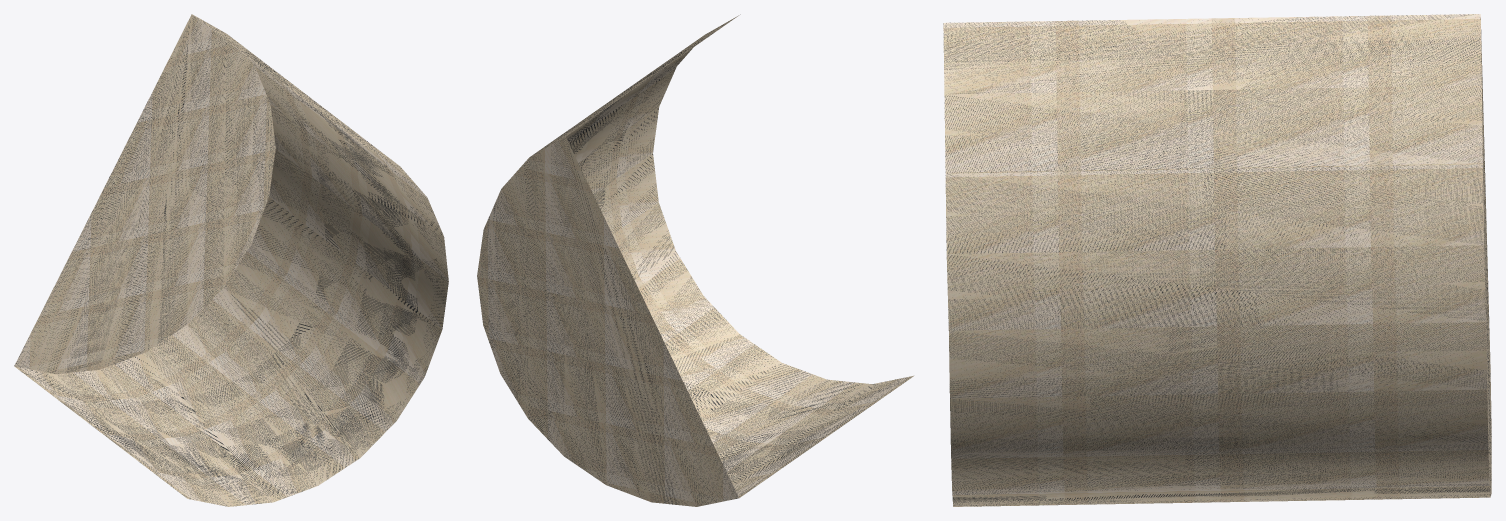
Rendered from original-236.obj.
3 views of the same model, side by side, from view 1: azimuth 30°, elevation 25°; view 2: azimuth 150°, elevation 25°; view 3: azimuth 270°, elevation 25° (orthographic). The views are drawn at different scales.
Visible parts, largest first — view 1: Group9/mesh100/mesh100-geometry/material_1/component_44#mesh100-; view 2: Group9/mesh100/mesh100-geometry/material_1/component_44#mesh100-; view 3: Group9/mesh100/mesh100-geometry/material_1/component_44#mesh100-.
Boxes of the visible parts, x1=… form: Group9/mesh100/mesh100-geometry/material_1/component_44#mesh100-: x1=14, y1=14, x2=448, y2=506; Group9/mesh100/mesh100-geometry/material_1/component_44#mesh100-: x1=477, y1=14, x2=914, y2=506; Group9/mesh100/mesh100-geometry/material_1/component_44#mesh100-: x1=943, y1=14, x2=1491, y2=506.
Bounding box in the file's own units: 0.0283 × 0.0356 × 0.0333.
